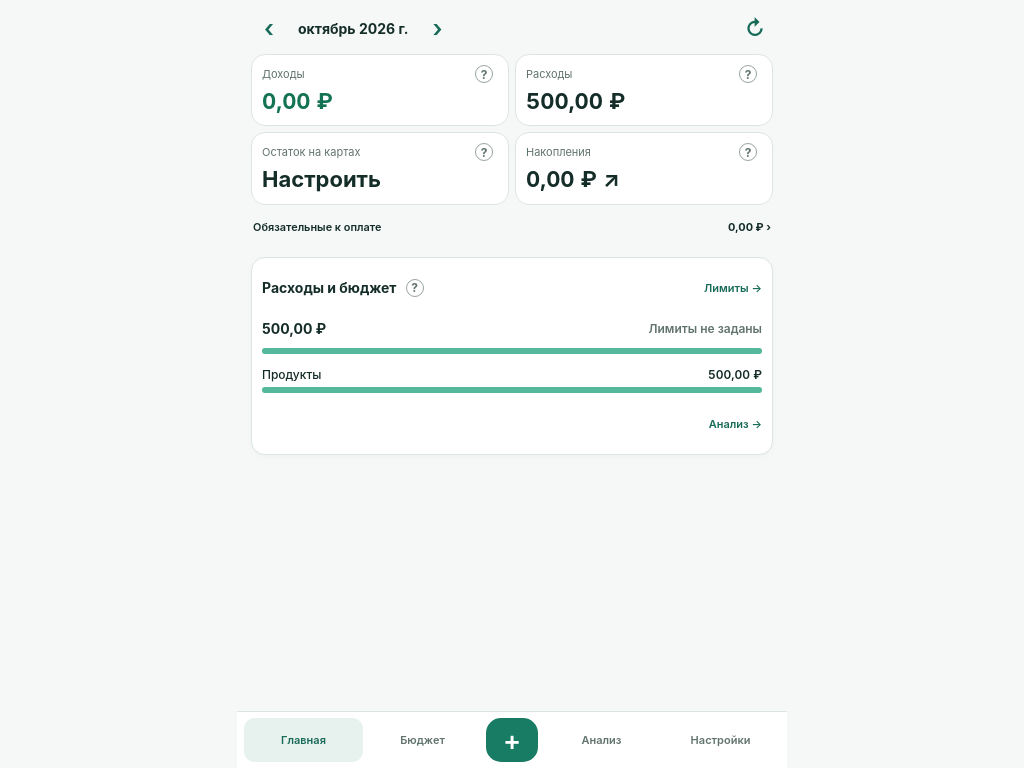
Scenario: категория главной открывает структурированную расшифровку
Click the button with aria-label "Расшифровка: Продукты".
click(292, 374)  # box [262,358,762,402]
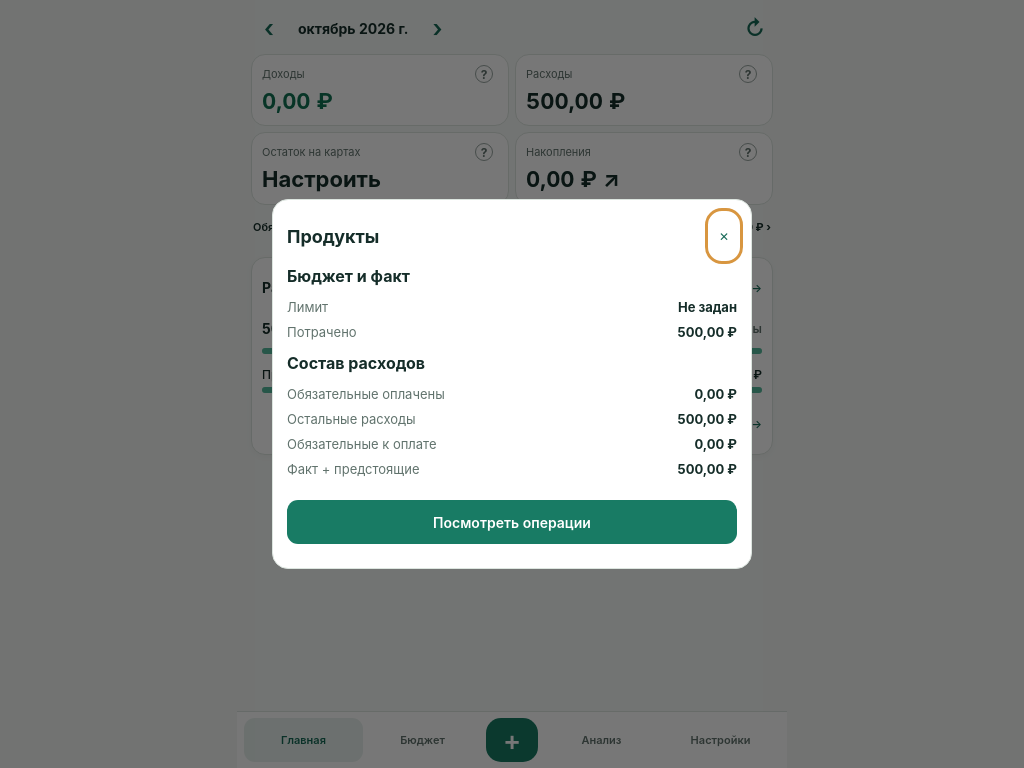
Check: the heading "Бюджет и факт" is shown, box [287,266,410,286]
Check: the text "Обязательные к оплате" is shown, box [287,436,436,452]
Click the button "Посмотреть операции".
click(512, 522)  # box [287,500,737,544]
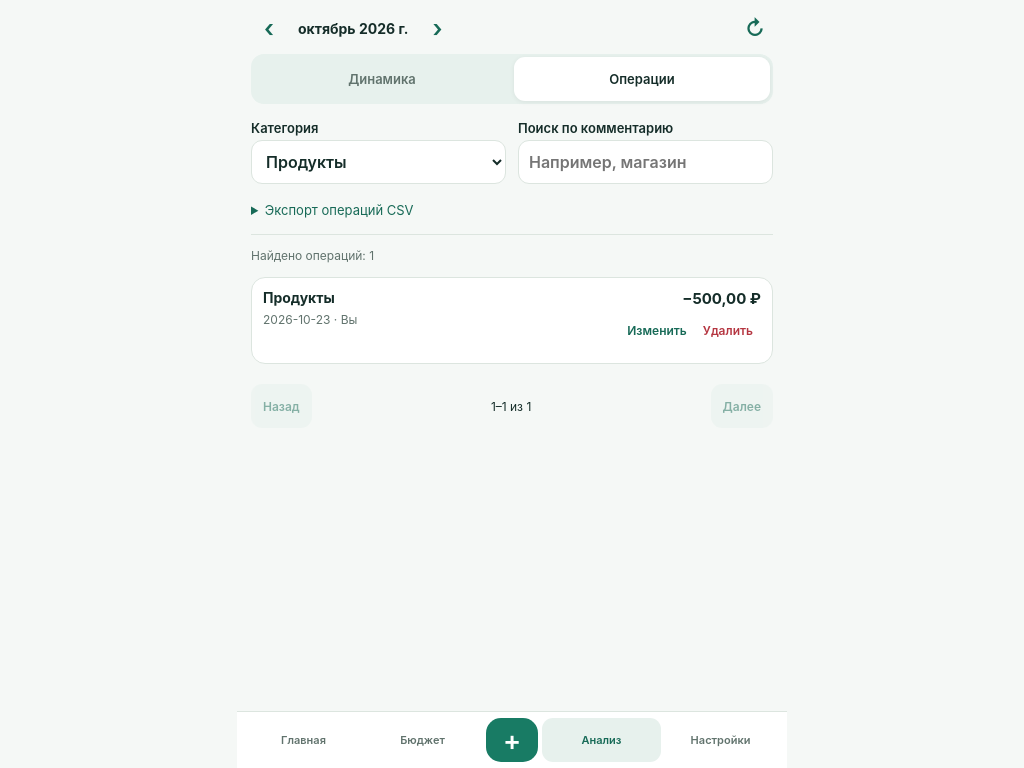
Check: the dialog is gone
Check: the dropdown labelled "Категория" shows "Продукты", box [251,140,506,184]
